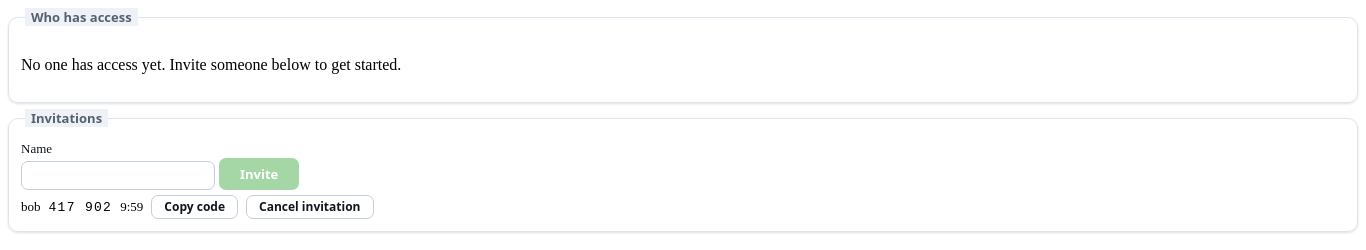
Test: People › reloads invitations from the server after cancelling one
Click the button "Cancel invitation". click: (310, 207)
box: left=246, top=195, right=374, bottom=219
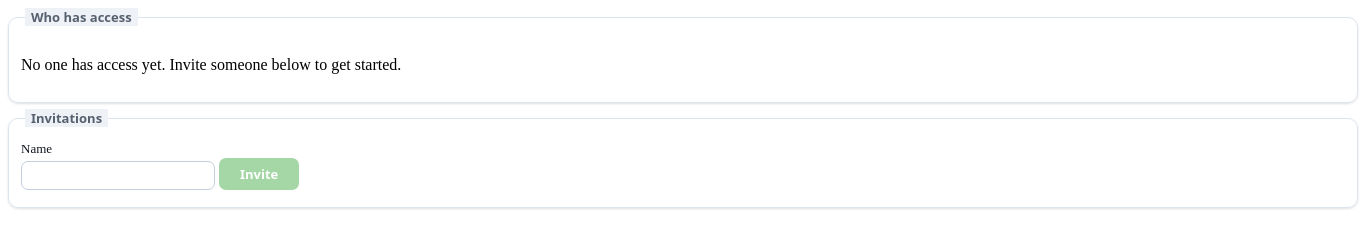
Check: the button "Cancel invitation" is gone
